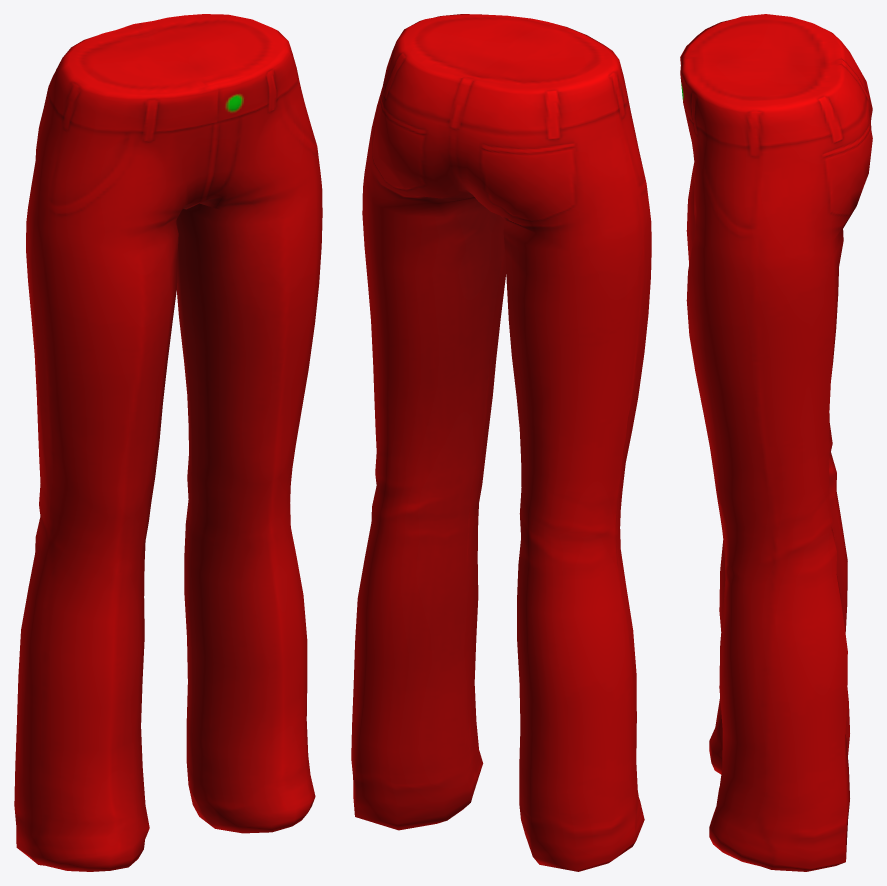
Rendered from Bottom_DressPants.obj.
The picture shows the model from 3 angles, left to right: view 1: azimuth 30°, elevation 25°; view 2: azimuth 150°, elevation 25°; view 3: azimuth 270°, elevation 25°; orthographic projection. The views are drawn at different scales.
Visible parts, largest first — view 1: Bottom_DressPants_0; view 2: Bottom_DressPants_0; view 3: Bottom_DressPants_0.
Boxes of the visible parts, <box> form: Bottom_DressPants_0: <box>14,14,322,871</box>; Bottom_DressPants_0: <box>351,14,651,871</box>; Bottom_DressPants_0: <box>680,14,872,871</box>.
Bounding box in the file's own units: 0.366 × 1.01 × 0.2319.
Materials: 1 (1 with a texture image).
